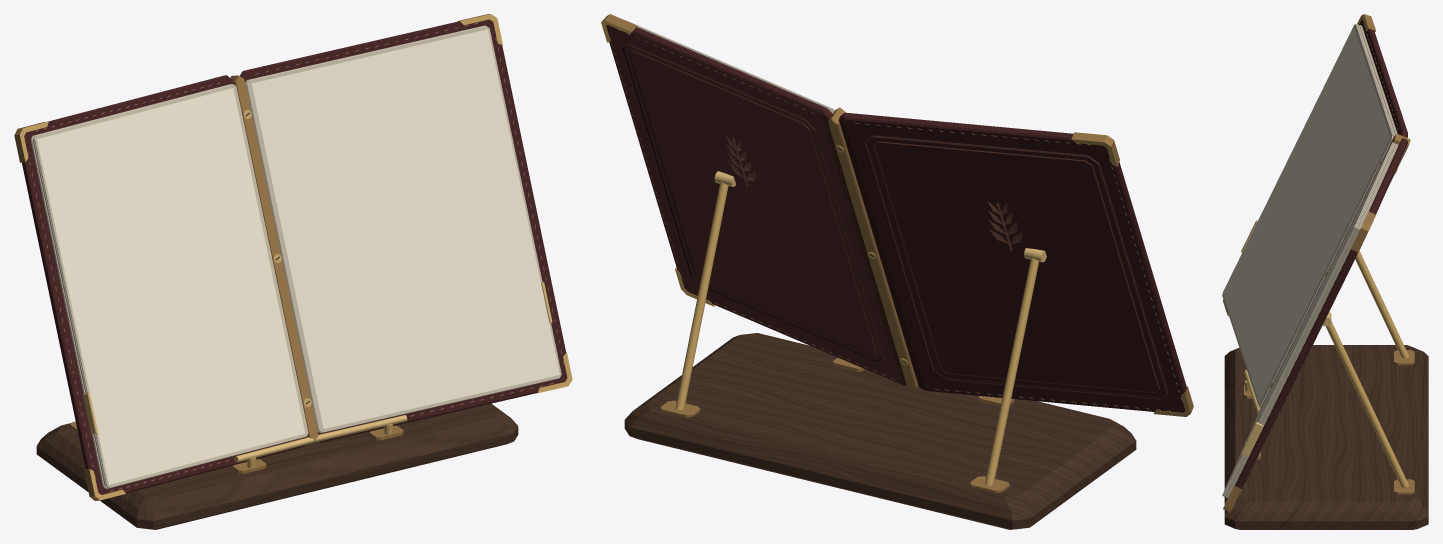
Rendered from menu-book.glb.
3 renders of one model, left to right at view 1: azimuth 30°, elevation 25°; view 2: azimuth 150°, elevation 25°; view 3: azimuth 270°, elevation 25°, orthographic. The views are drawn at different scales.
Visible parts, largest first — view 1: Menu_Page_Right, Menu_Page_Left, MenuBook_Cradle, MenuBook_Cover, MenuBook_Pages, MenuBook_Brass; view 2: MenuBook_Cover, MenuBook_Cradle, MenuBook_Brass; view 3: MenuBook_Cradle, Menu_Page_Left, MenuBook_Pages, MenuBook_Brass, MenuBook_Cover, Menu_Page_Right.
Part boxes in pixels (x1=…): Menu_Page_Right: x1=251, y1=29, x2=559, y2=428; Menu_Page_Left: x1=37, y1=88, x2=305, y2=484; MenuBook_Cradle: x1=36, y1=403, x2=518, y2=529; MenuBook_Cover: x1=22, y1=19, x2=567, y2=494; MenuBook_Pages: x1=30, y1=25, x2=561, y2=488; MenuBook_Brass: x1=14, y1=14, x2=572, y2=500; MenuBook_Cover: x1=606, y1=25, x2=1186, y2=412; MenuBook_Cradle: x1=624, y1=333, x2=1136, y2=529; MenuBook_Brass: x1=601, y1=14, x2=1193, y2=492; MenuBook_Cradle: x1=1224, y1=345, x2=1428, y2=529; Menu_Page_Left: x1=1223, y1=26, x2=1390, y2=403; MenuBook_Pages: x1=1222, y1=24, x2=1398, y2=498; MenuBook_Brass: x1=1223, y1=14, x2=1414, y2=512; MenuBook_Cover: x1=1235, y1=19, x2=1407, y2=488; Menu_Page_Right: x1=1225, y1=147, x2=1389, y2=487.
Bounding box in the file's own units: 0.4154 × 0.2991 × 0.1699.
6 materials, 2 textured.
